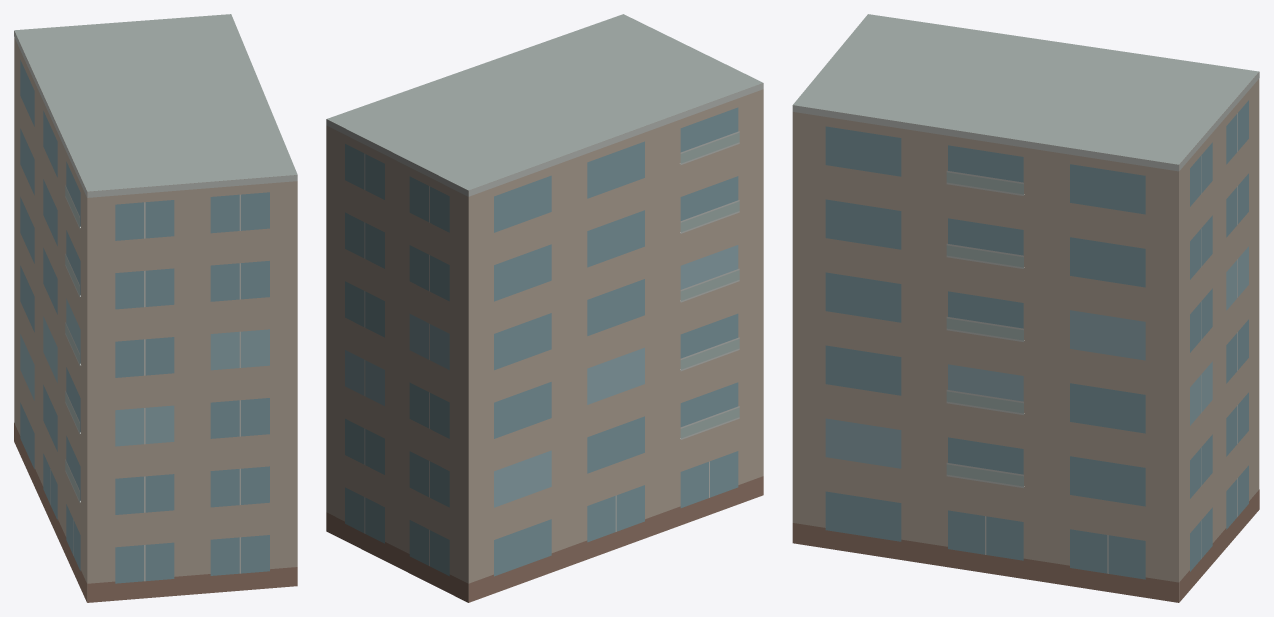
File: survey-upis-32945480.glb
3 renders of one model, left to right at view 1: azimuth 30°, elevation 25°; view 2: azimuth 150°, elevation 25°; view 3: azimuth 270°, elevation 25°, orthographic. The views are drawn at different scales.
Visible parts, largest first — view 1: survey-upis-32945480.tmp; view 2: survey-upis-32945480.tmp; view 3: survey-upis-32945480.tmp.
Boxes of the visible parts, <box> form: survey-upis-32945480.tmp: <box>14,14,297,602</box>; survey-upis-32945480.tmp: <box>326,14,763,602</box>; survey-upis-32945480.tmp: <box>792,14,1259,602</box>.
Bounding box in the file's own units: 11.78 × 15.95 × 15.41.
